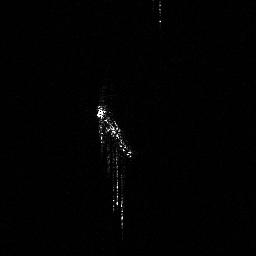ship: (92, 99, 137, 232)
